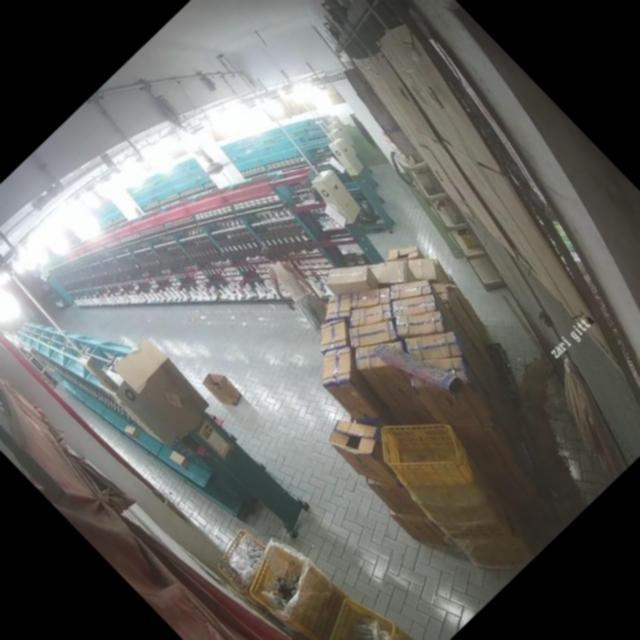person: (248, 240, 338, 332)
